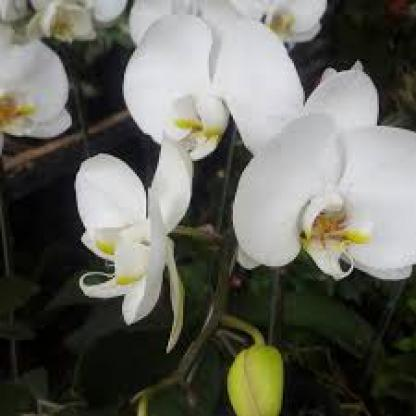ANGGREK: (35, 11, 412, 340)
